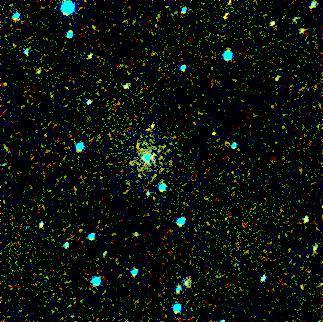star: (211, 131, 241, 161)
